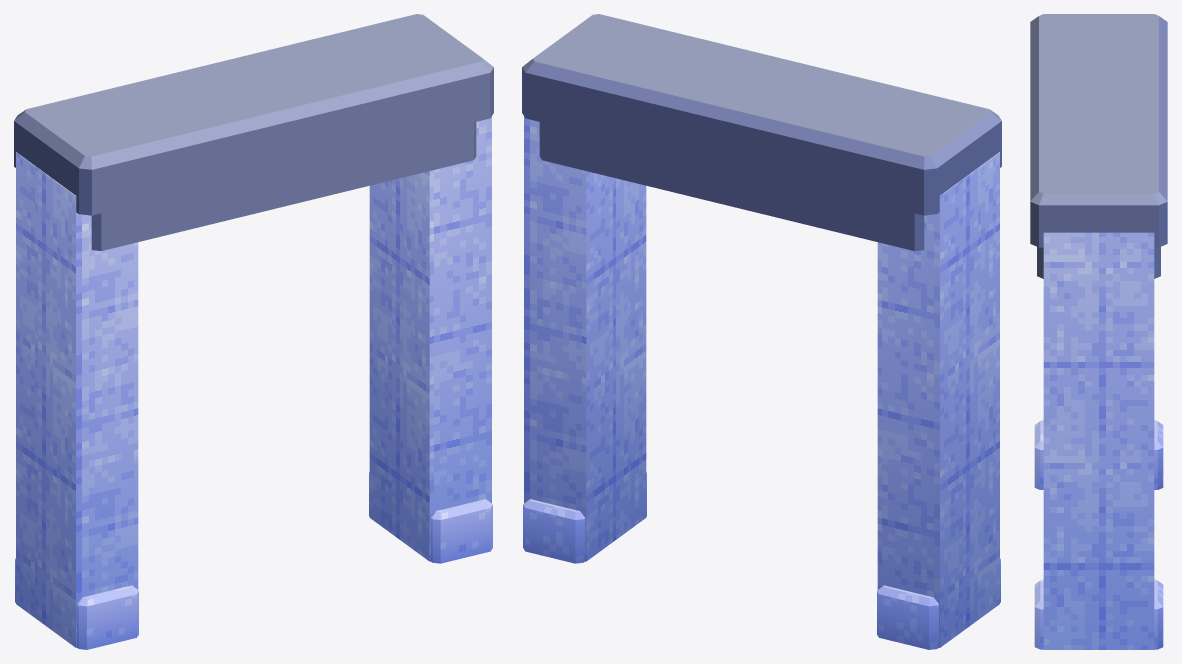
File: ruin.wall__door.glb
3 views of the same model, side by side, from view 1: azimuth 30°, elevation 25°; view 2: azimuth 150°, elevation 25°; view 3: azimuth 270°, elevation 25° (orthographic). The views are drawn at different scales.
Parts seen in each view (by area): view 1: kit_body, kit_trim, kit_plinth; view 2: kit_body, kit_trim, kit_plinth; view 3: kit_body, kit_trim, kit_plinth.
Boxes of the visible parts, x1,y1,x2,y2 form: kit_body: (16, 116, 491, 647); kit_trim: (14, 14, 493, 251); kit_plinth: (15, 472, 492, 649); kit_body: (524, 116, 999, 647); kit_trim: (522, 14, 1001, 251); kit_plinth: (523, 472, 1000, 649); kit_body: (1043, 232, 1154, 649); kit_trim: (1030, 14, 1167, 278); kit_plinth: (1034, 420, 1163, 649).
Bounding box in the file's own units: 4 × 4.5 × 1.24.
3 materials, 2 textured.
